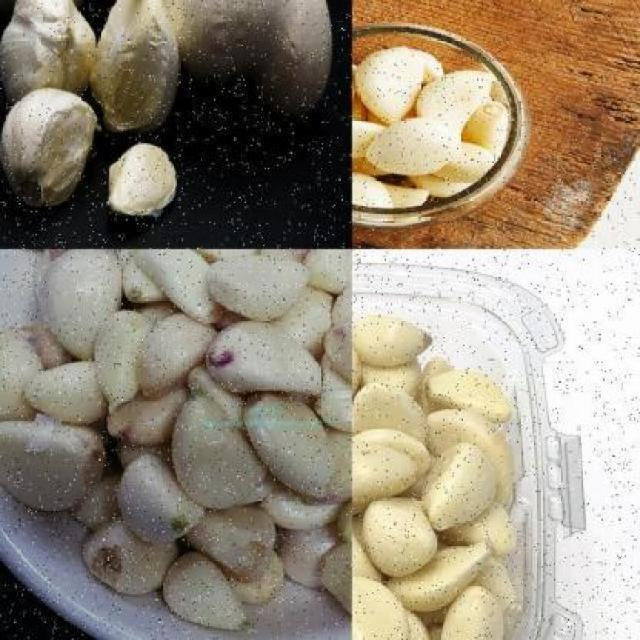garlic: (0, 249, 351, 637), (352, 312, 514, 640), (352, 39, 514, 216), (132, 0, 337, 122), (0, 83, 102, 209), (87, 0, 176, 131), (173, 398, 275, 511), (208, 320, 328, 406), (0, 0, 97, 98), (113, 456, 214, 547), (41, 252, 126, 358), (416, 441, 498, 534), (89, 309, 158, 412), (206, 256, 315, 320), (364, 494, 440, 581), (352, 430, 432, 510), (104, 140, 178, 222), (369, 115, 462, 179), (355, 318, 435, 367)
